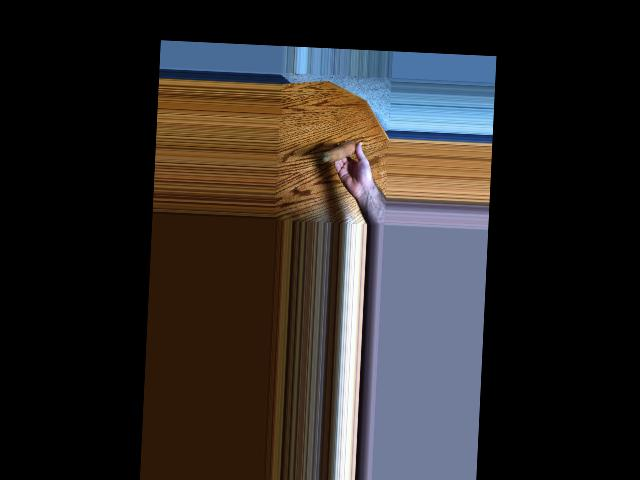sweet_potato: (321, 139, 358, 165)
